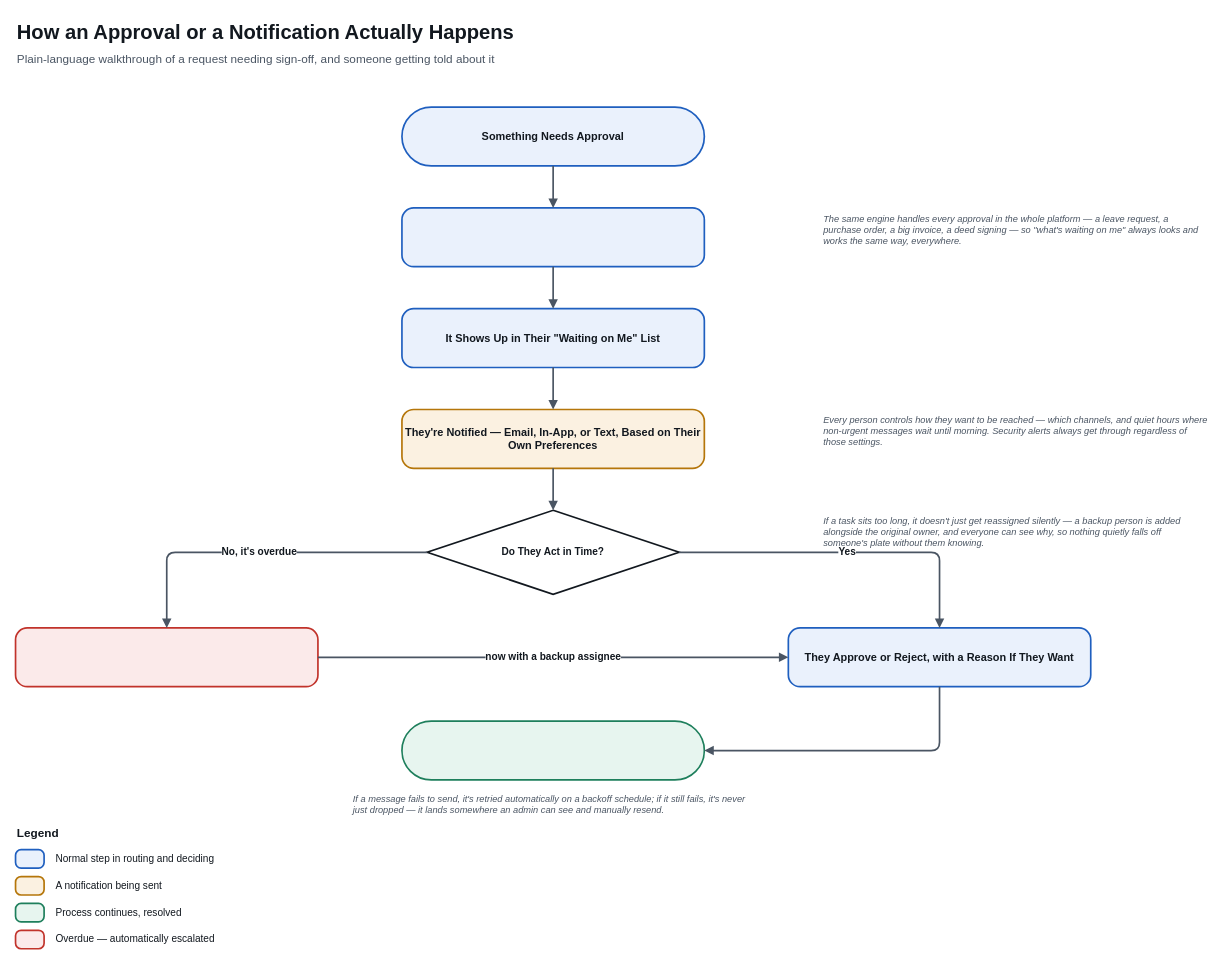
Some shapes in this 1222 by 965 pixel diagram are drawn without their labels. Each missing label, with the box of its shape:
It's Automatically Escalated to a Backup Person — Nothing Sits Forever: (14, 627, 318, 687)
The Original Request Continues Automatically to Its Next Step: (401, 720, 705, 780)
The Right Person Is Found Automatically — by Name, Role, or Team: (401, 207, 705, 267)
